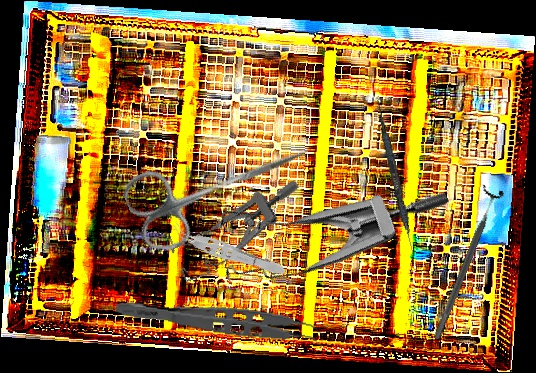Fixation Ring: (424, 183, 507, 344)
Iris Scissors: (118, 110, 322, 260)
Spatula Surgical: (371, 98, 421, 265)
Speculum: (196, 107, 451, 325), (161, 177, 317, 285)
Tissue Forceps: (113, 297, 326, 352), (168, 220, 289, 282)
